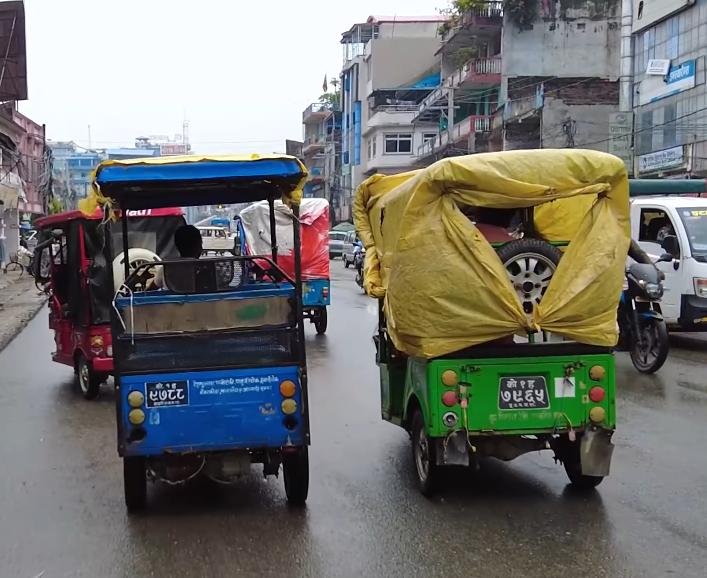e-rickshaw: (344, 138, 624, 503), (90, 143, 328, 538)
